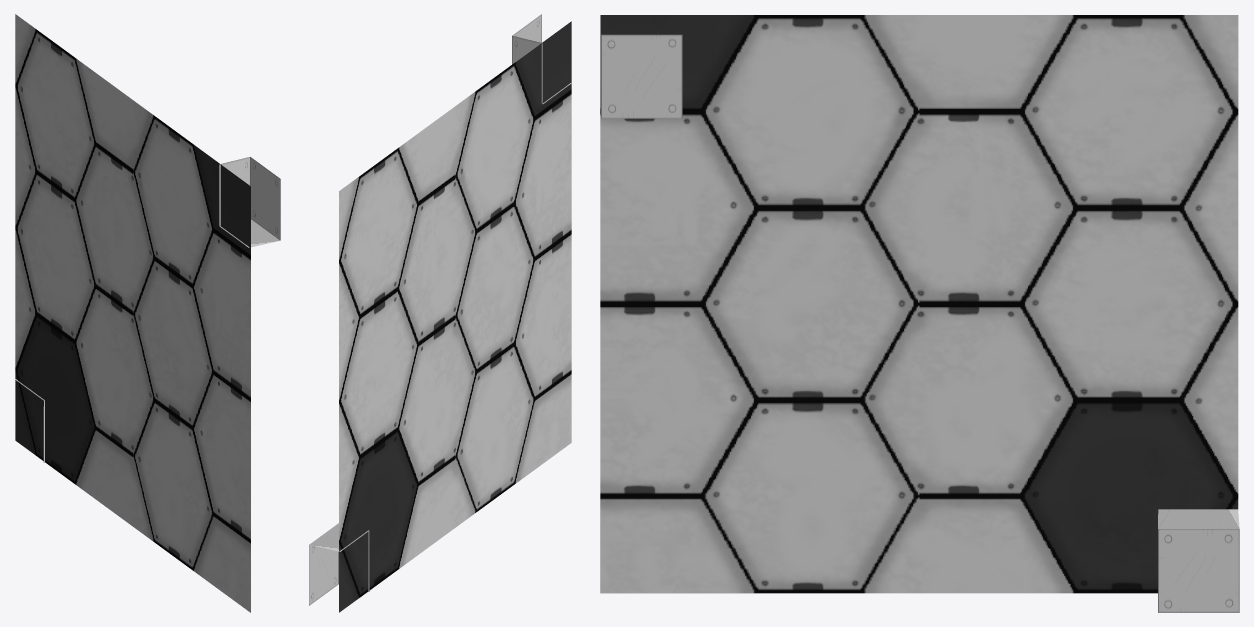
Rendered from Wall_CornerDiag3.fbx.
The picture shows the model from 3 angles, left to right: view 1: azimuth 30°, elevation 25°; view 2: azimuth 150°, elevation 25°; view 3: azimuth 270°, elevation 25°; orthographic projection. The views are drawn at different scales.
Parts seen in each view (by area): view 1: pPlane108; view 2: pPlane108; view 3: pPlane108.
Boxes of the visible parts, box(x1,y1,x2,y2) form: pPlane108: box(15, 14, 280, 612); pPlane108: box(309, 14, 571, 612); pPlane108: box(600, 15, 1239, 612).
Size of the model in its own units: 0.1534 by 2 by 2.
